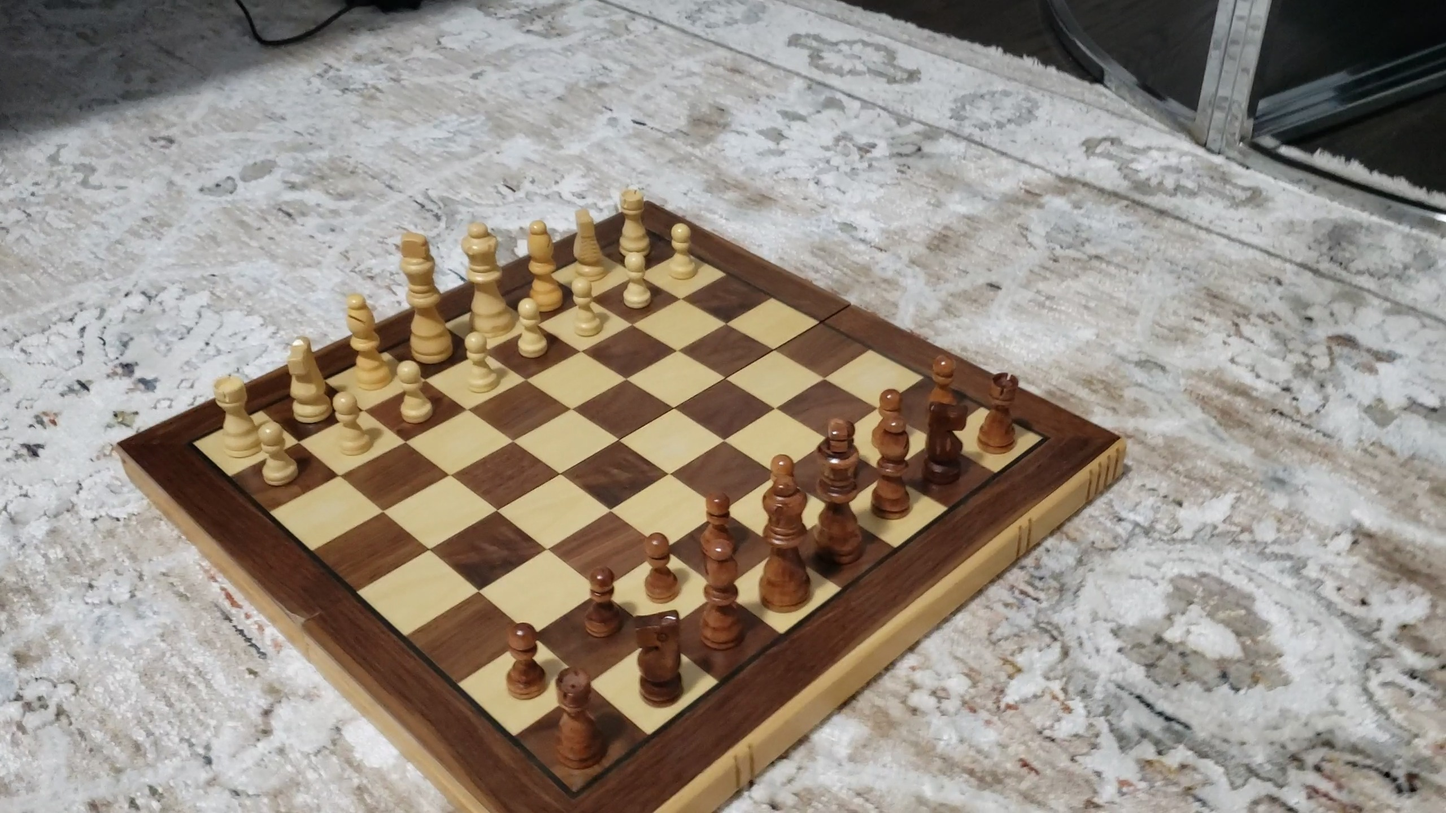black-bishop: (694, 537, 750, 655), (872, 411, 919, 520)
black-king: (812, 413, 864, 567)
black-knight: (633, 609, 685, 707), (922, 396, 966, 486)
black-pawn: (502, 619, 548, 702), (581, 563, 625, 641), (640, 530, 681, 606), (871, 384, 909, 466), (699, 491, 737, 562), (920, 348, 964, 405)
black-queen: (759, 473, 814, 613)
black-rook: (551, 667, 608, 773), (980, 369, 1020, 453)
white-bishop: (343, 290, 391, 391), (522, 216, 564, 314)
white-king: (397, 228, 454, 369)
white-knight: (284, 335, 332, 425), (570, 200, 608, 286)
white-pawn: (250, 419, 305, 491), (325, 390, 377, 460), (390, 358, 437, 428), (458, 329, 506, 397), (564, 269, 608, 343), (615, 244, 657, 314), (510, 295, 553, 362), (661, 218, 703, 286)
white-queen: (461, 218, 511, 338)
white-rook: (211, 375, 263, 460), (615, 183, 649, 260)
